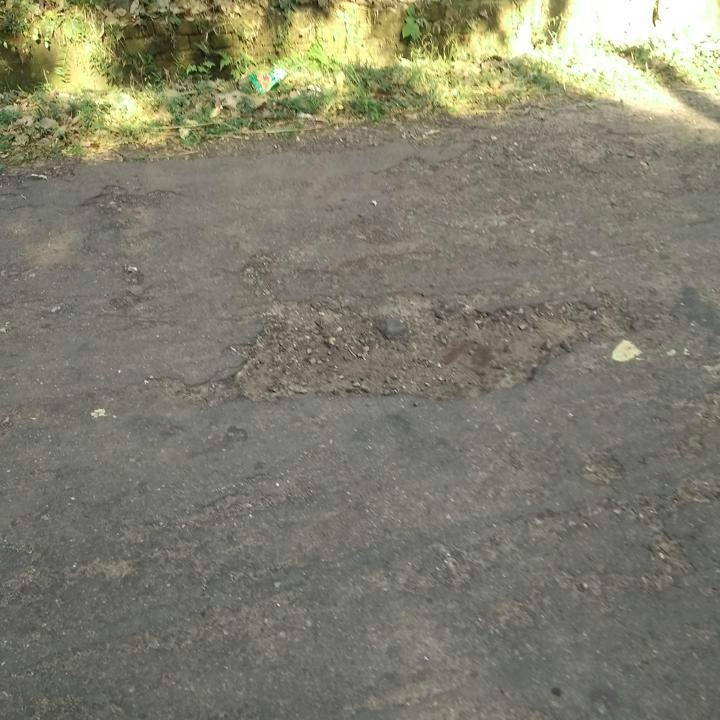pothole: (222, 288, 635, 409), (80, 181, 177, 208)
